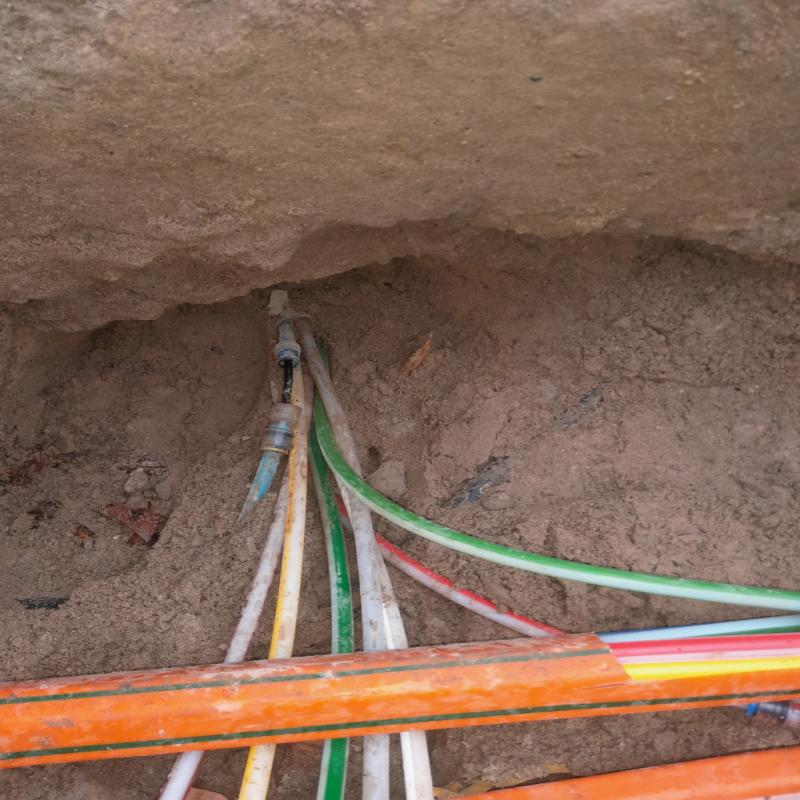Orang-Speednetrohrchen: (3, 616, 799, 767), (456, 747, 798, 800)
